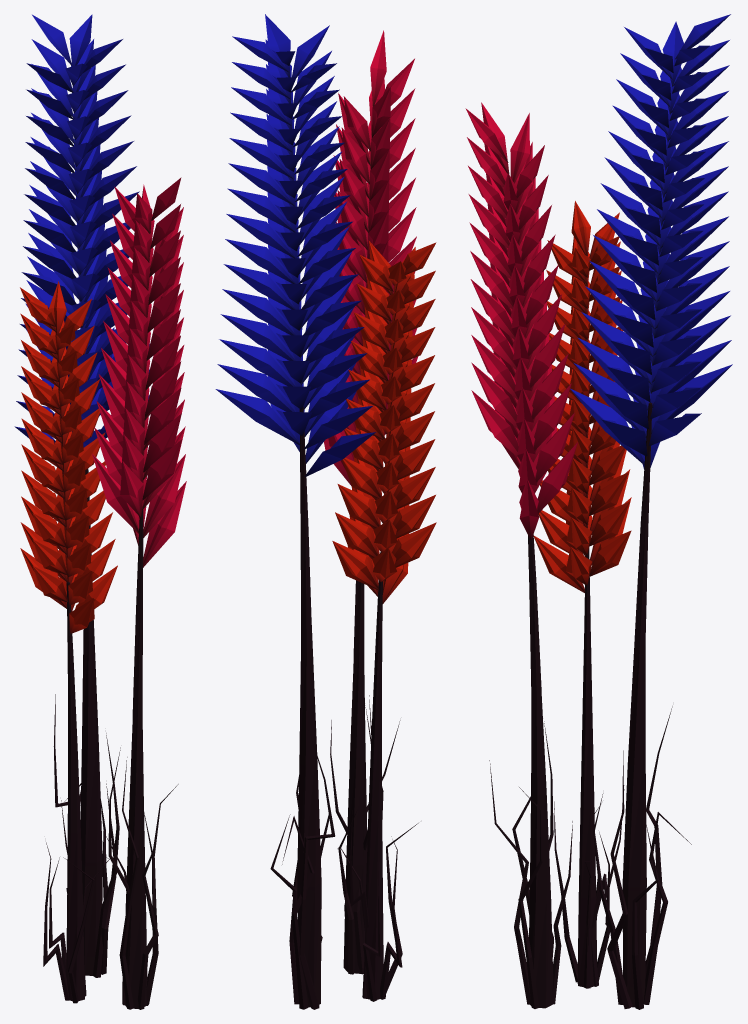
File: Plant-M-1.fbx
The picture shows the model from 3 angles, left to right: view 1: azimuth 30°, elevation 25°; view 2: azimuth 150°, elevation 25°; view 3: azimuth 270°, elevation 25°; orthographic projection. The views are drawn at different scales.
Parts seen in each view (by area): view 1: OUT-Plant; view 2: OUT-Plant; view 3: OUT-Plant.
Boxes of the visible parts, x1,y1,x2,y2 form: OUT-Plant: [14, 14, 186, 1009]; OUT-Plant: [215, 14, 436, 1009]; OUT-Plant: [465, 14, 732, 1009].
Size of the model in its own units: 0.1547 by 0.9311 by 0.2301.
